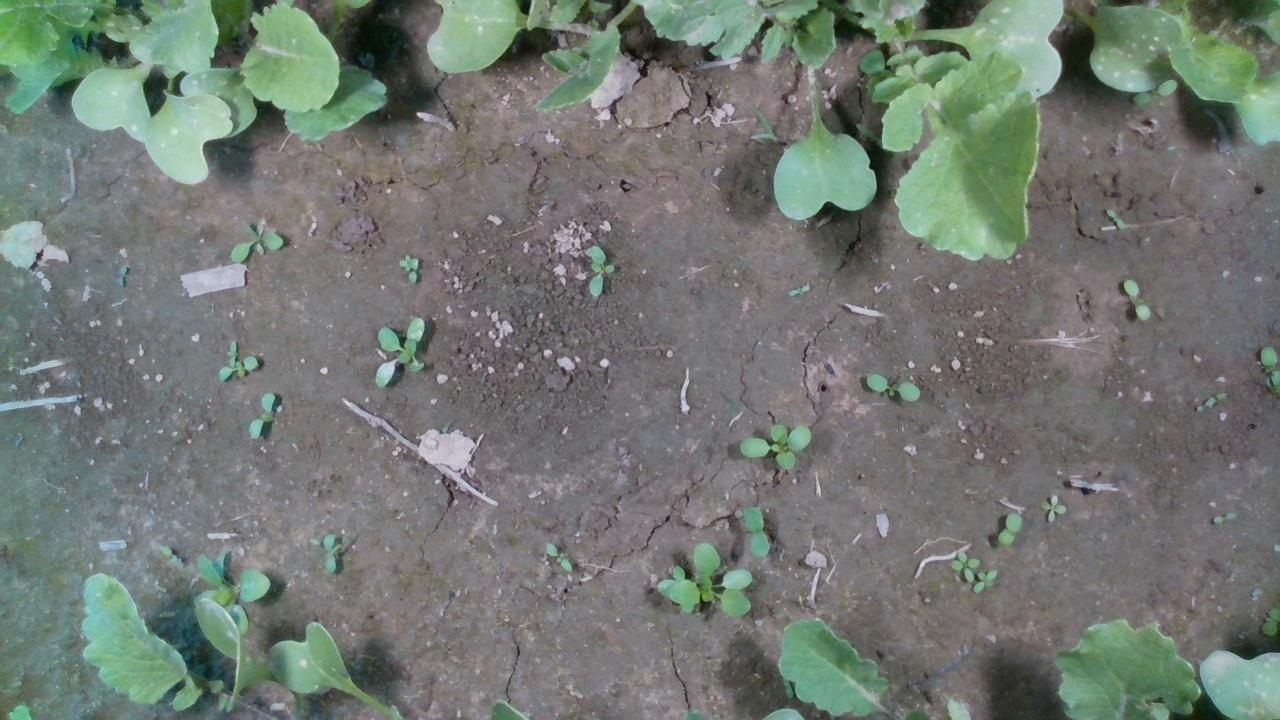weed: (372, 314, 426, 387), (735, 422, 814, 469), (738, 504, 773, 559), (585, 243, 617, 296), (863, 372, 921, 401), (246, 389, 278, 441), (1117, 276, 1152, 323), (994, 507, 1024, 548), (1037, 491, 1067, 523), (544, 541, 573, 571), (319, 531, 339, 574), (1199, 388, 1230, 406), (1103, 208, 1125, 231), (1209, 510, 1235, 526)
